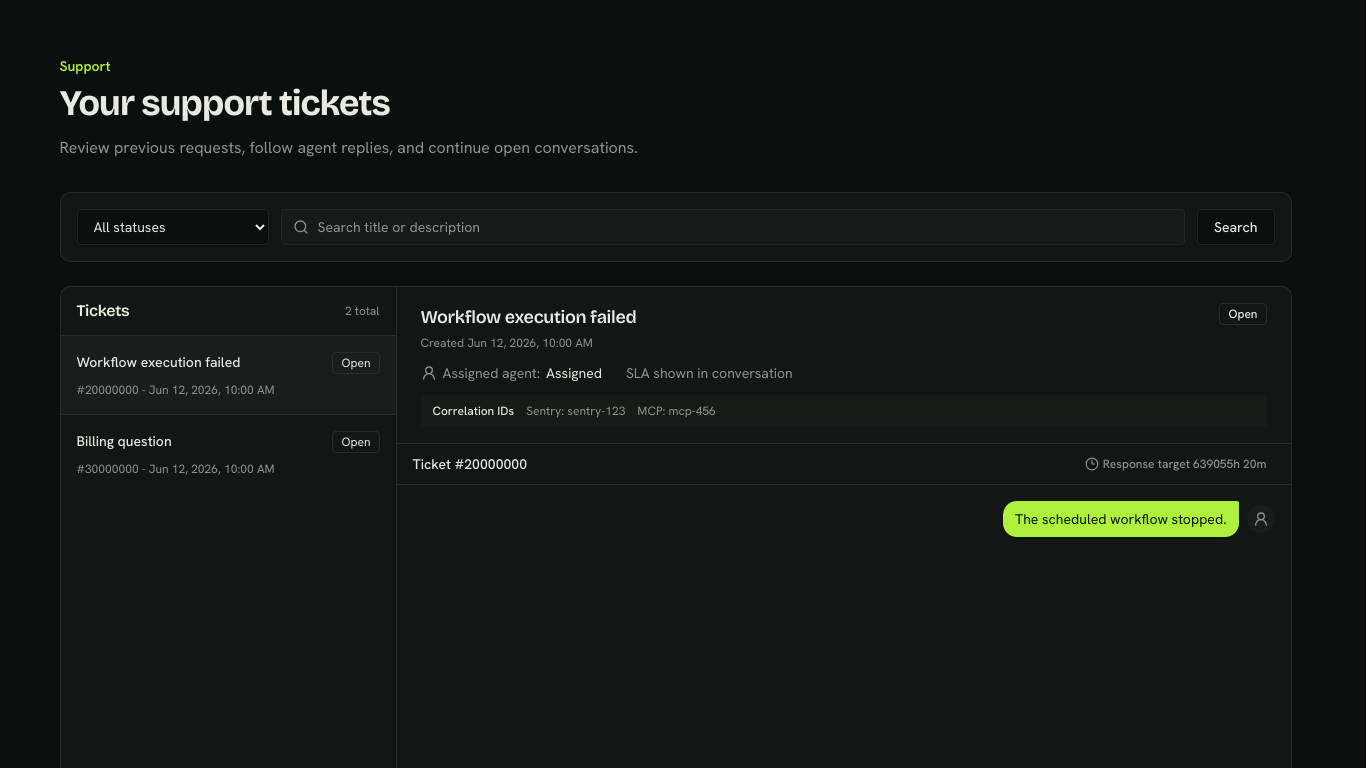
Test: user ticket history › loads a selected ticket detail and renders its replies
Step 1. Click the button "Billing question Open #30000000 - Jun 12, 2026, 10:00 AM" → (124, 441), box x1=60 y1=415 x2=396 y2=493
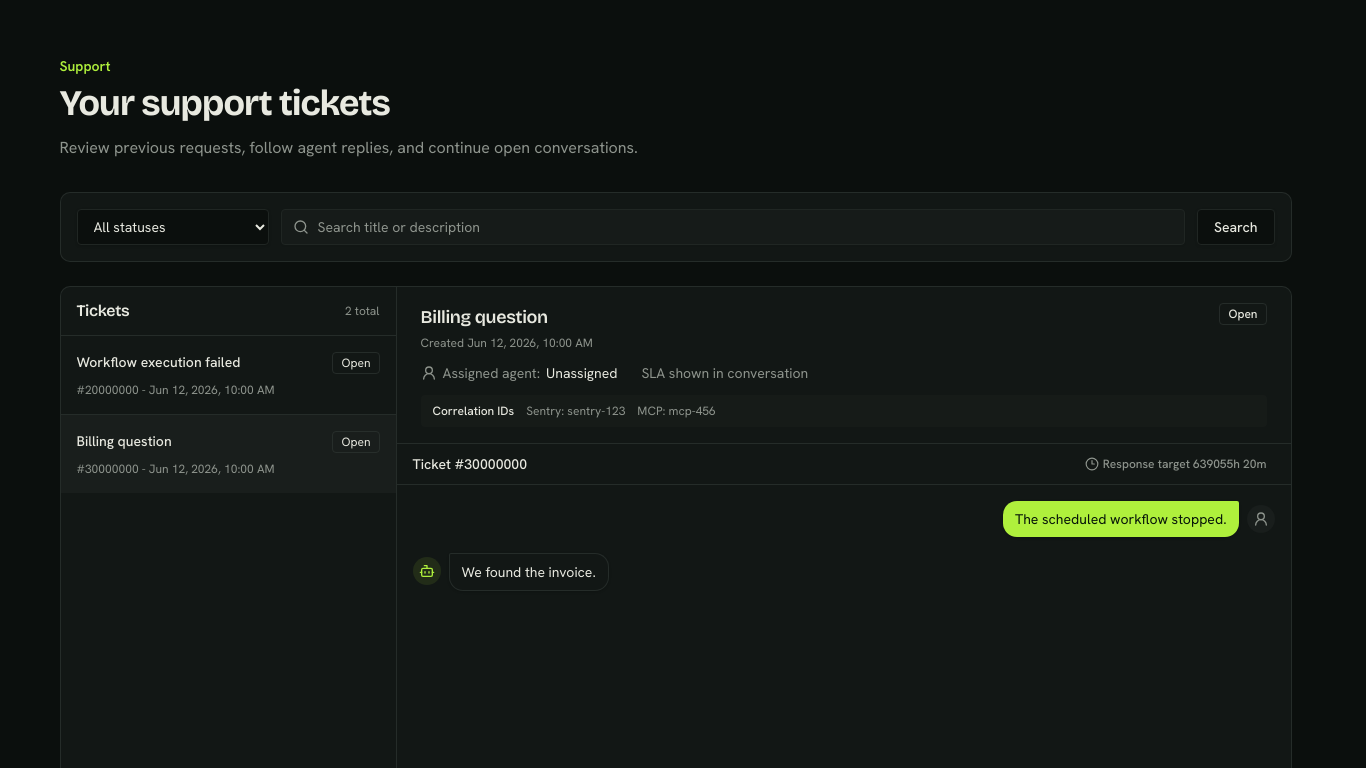
Expected: the text "We found the invoice." is shown, x1=462 y1=562 x2=596 y2=582
